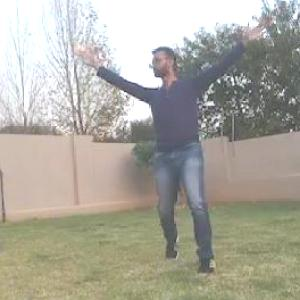takeoff: (74, 18, 262, 271)
